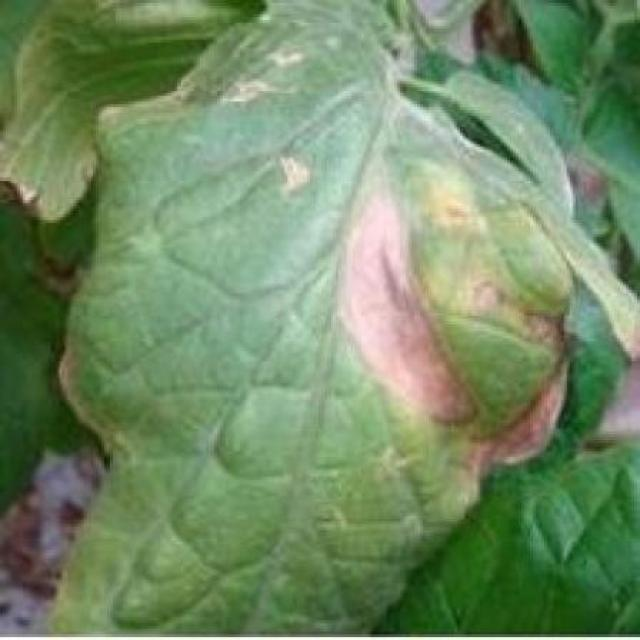Late Blight: (33, 0, 583, 634)
